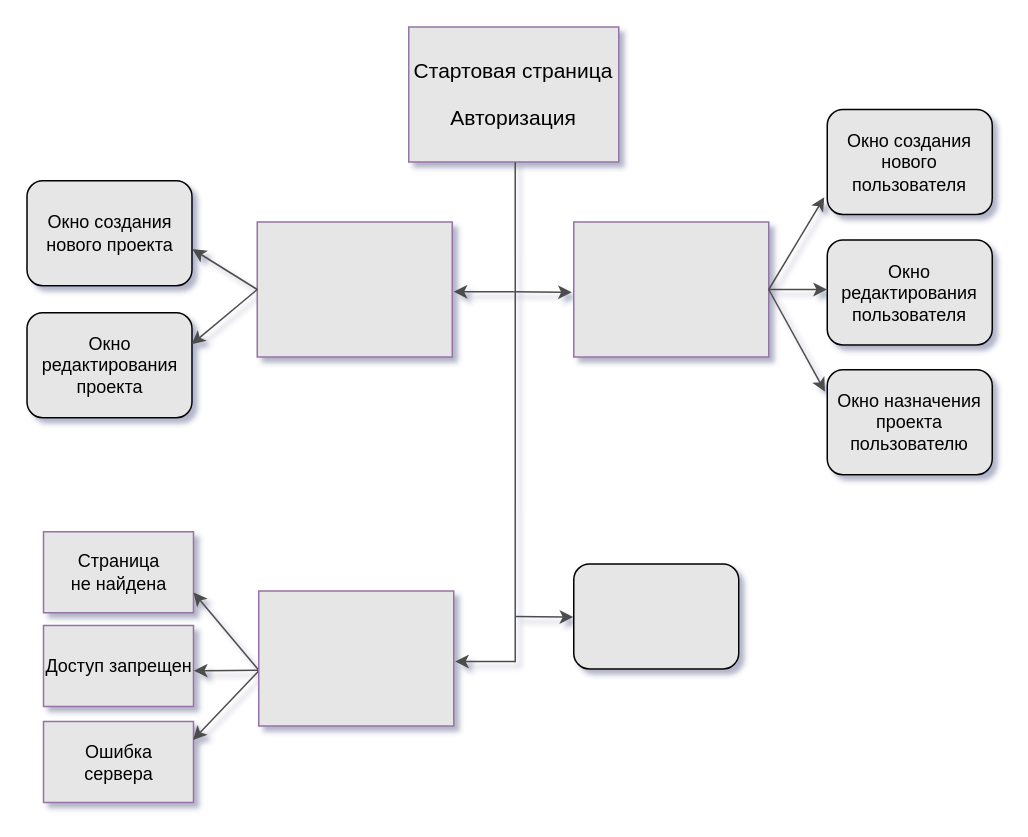
The diagram is 1028 pixels wide and 837 high, and some of its shapes have lost their labels. The centre of each missing label's shape, as x and y in pixels:
Главная страница со списком проектов: pixel 354 288
Окно выхода из системы: pixel 655 615
Страница ошибок: pixel 355 658
Страница со списком пользователей: pixel 670 288
